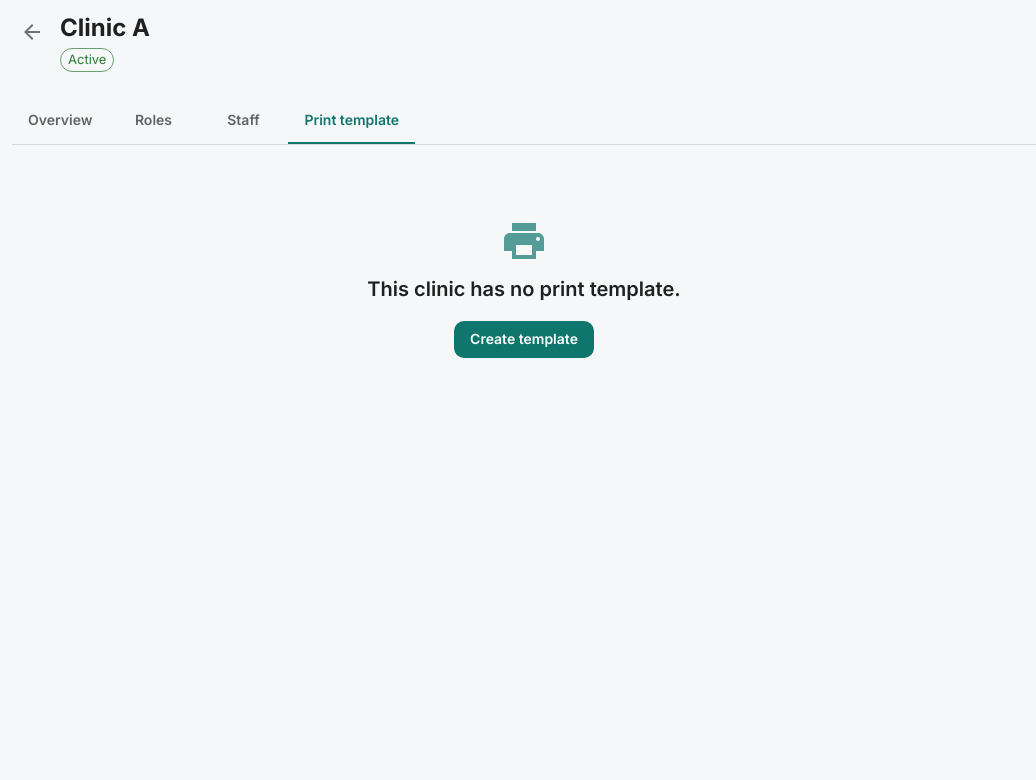
Test: print template: the paper size @area:admin › Custom keeps the current measures; only then the width and height can be typed @TPL-047
Click the button "Create template". click: {"x": 524, "y": 339}
box: [454,321,594,358]
(page scrolled)
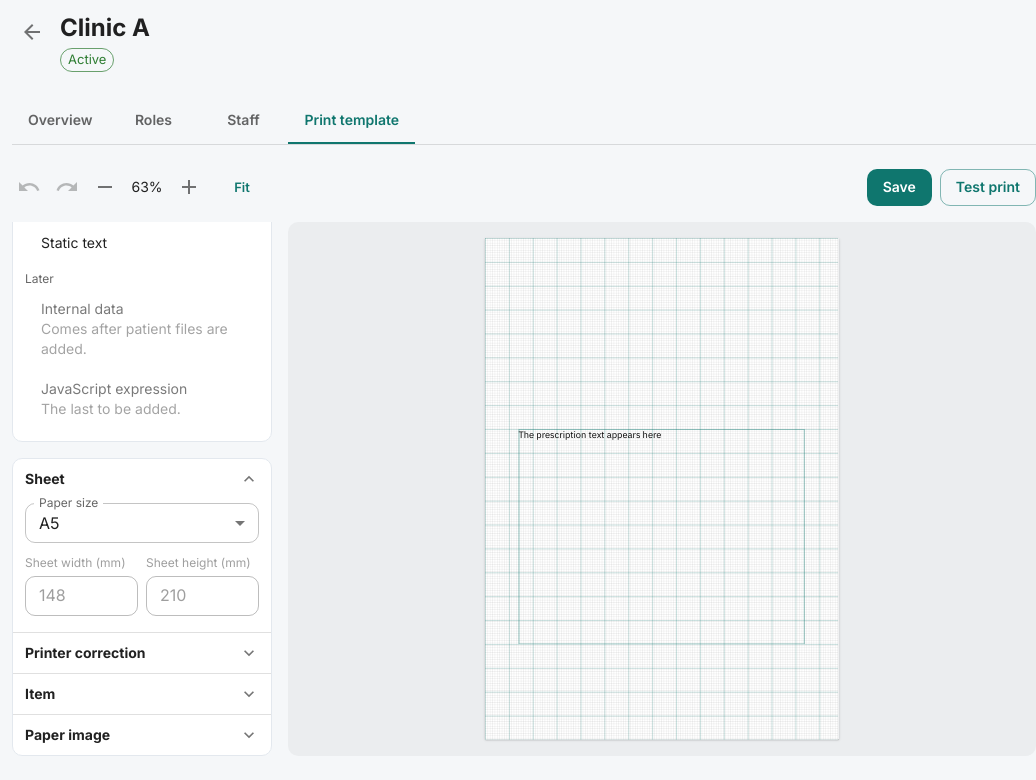
Now the field labelled "Sheet width (mm)" is disabled, box [25,576,138,616]
Now the field labelled "Sheet height (mm)" is disabled, box [146,576,259,616]
Now the field labelled "Sheet width (mm)" holds "148", box [25,576,138,616]
Click the dropdown labelled "A5". click: {"x": 49, "y": 523}
box: [39,513,60,533]
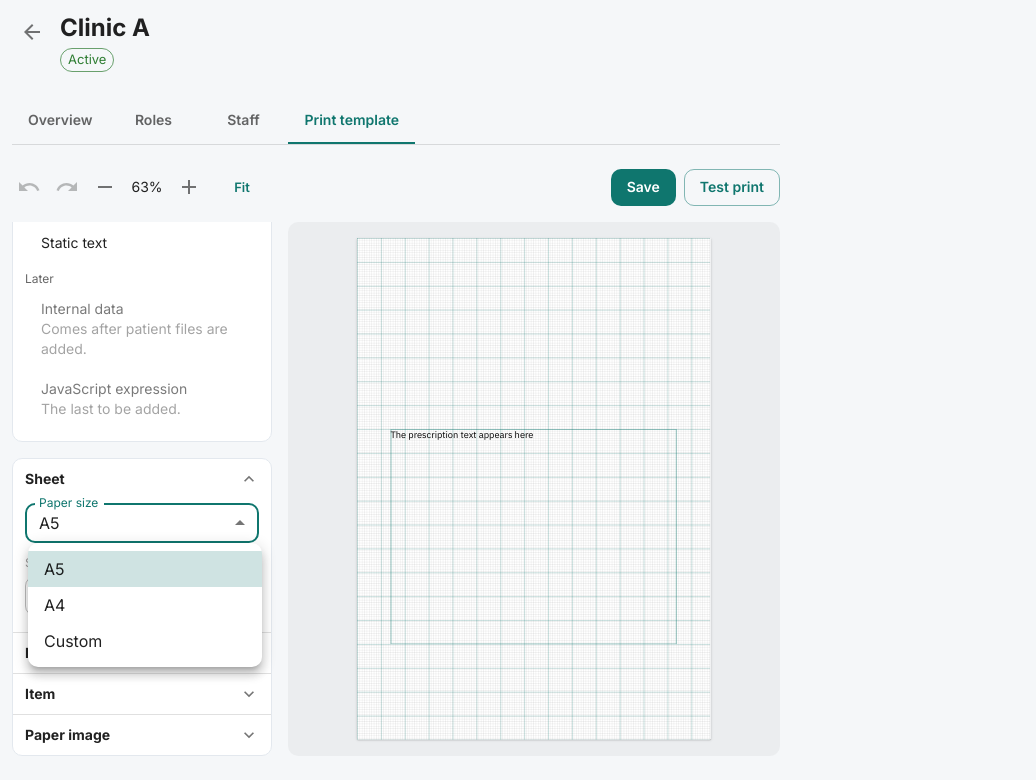
Click the option "Custom". click: {"x": 73, "y": 641}
box: [44,631,102,651]
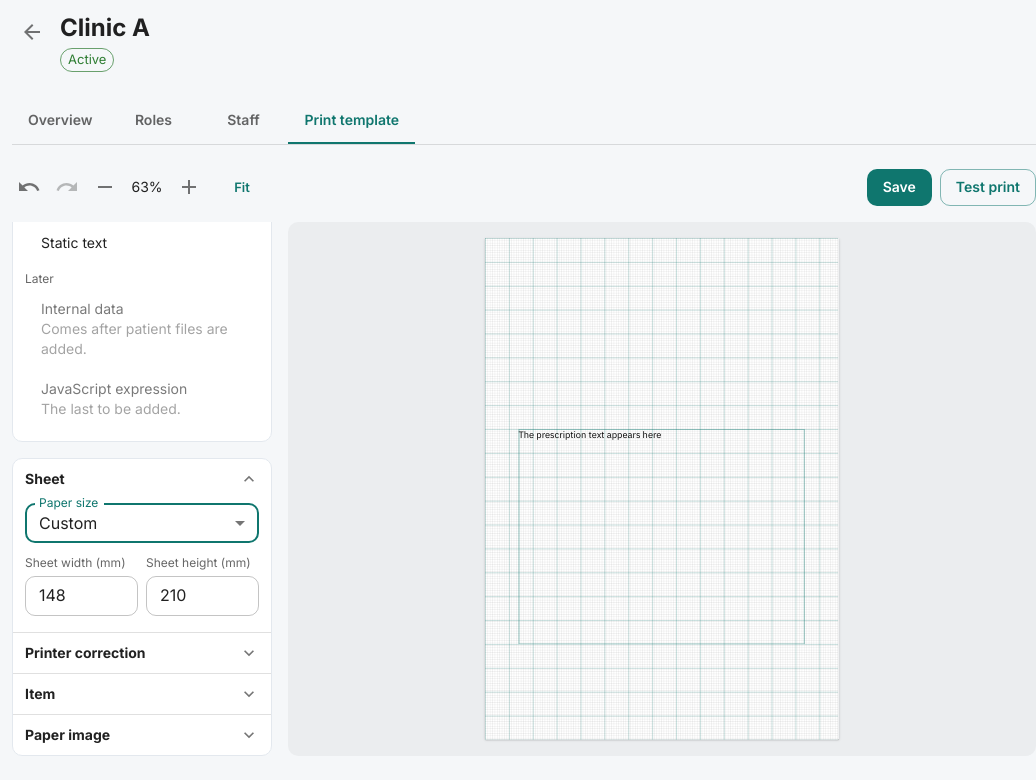
Now the list "A5 A4 Custom" is gone
Now the field labelled "Sheet width (mm)" is enabled, box [25,576,138,616]
Now the field labelled "Sheet height (mm)" is enabled, box [146,576,259,616]
